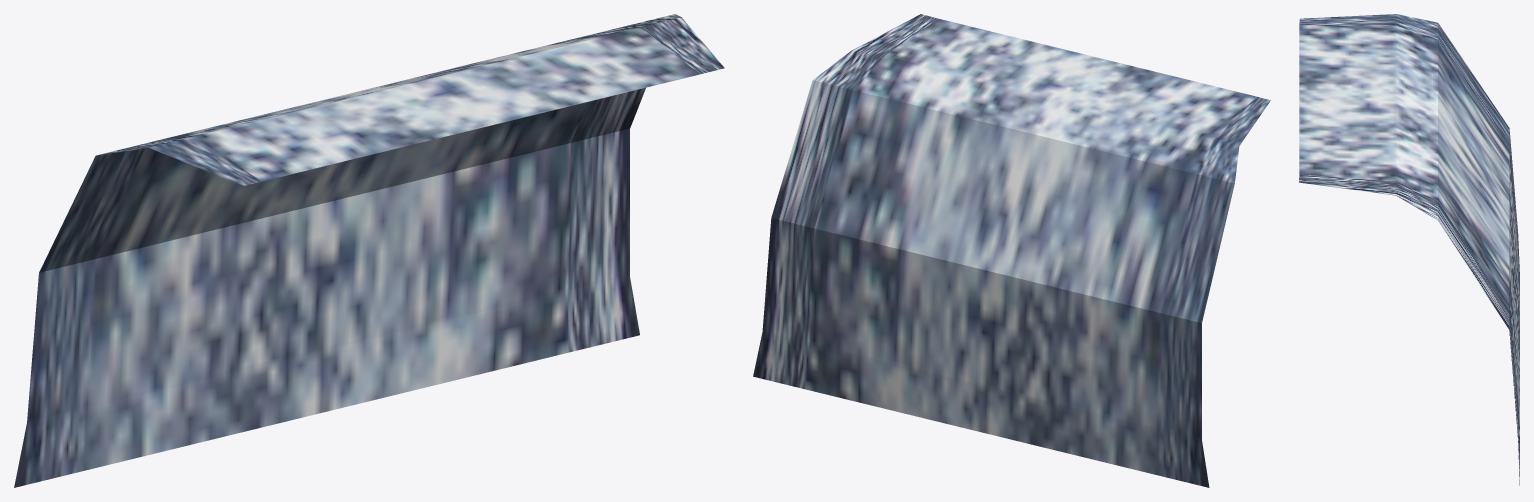
The model's file is xin_FB_PuBu.FBX.
3 views of the same model, side by side, from view 1: azimuth 30°, elevation 25°; view 2: azimuth 150°, elevation 25°; view 3: azimuth 270°, elevation 25° (orthographic). The views are drawn at different scales.
Visible parts, largest first — view 1: Object04; view 2: Object04; view 3: Object04.
Boxes of the visible parts, bbox=[...] form: Object04: bbox=[14, 14, 724, 487]; Object04: bbox=[753, 14, 1270, 487]; Object04: bbox=[1299, 14, 1519, 485].
Size of the model in its own units: 26.33 by 16.07 by 11.47.
